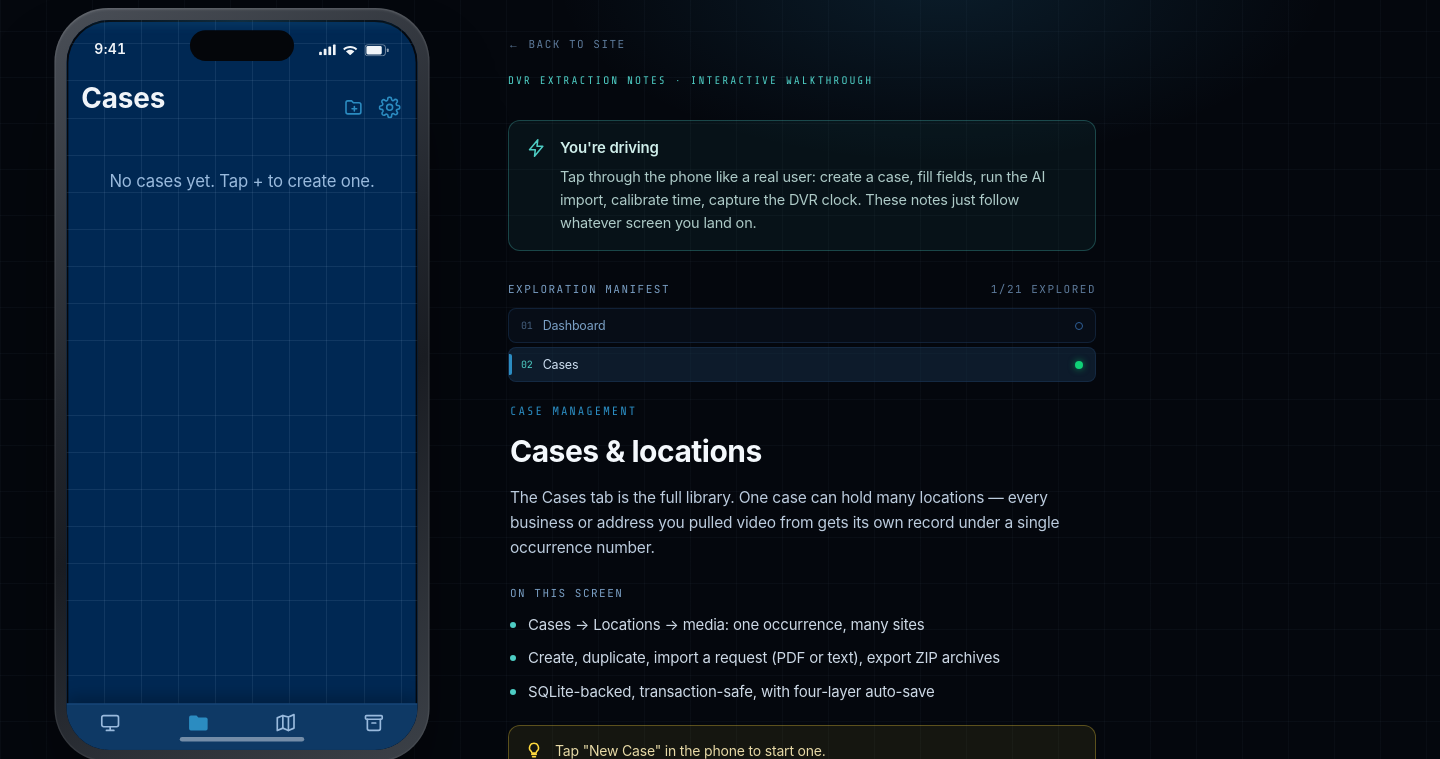
Test: Settings entry points (phone MainHeader gear on BOTH tab headers) › closes back to the tab it was opened from, clearing the modal id
Click the button with test id "header-settings-button".
click(390, 107)  # box [377,94,403,120]
(page scrolled)
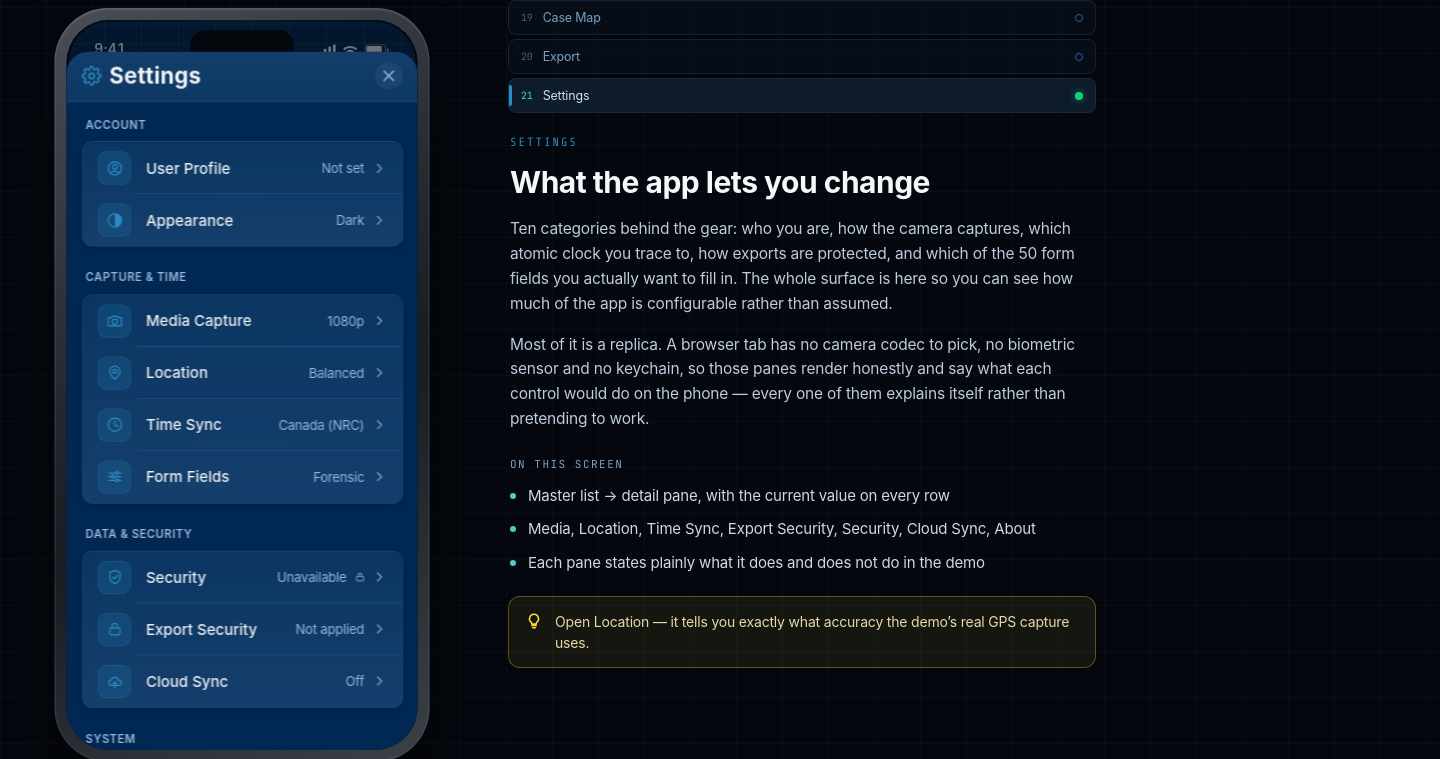
Click the button with test id "settings-close-button".
click(389, 76)  # box [375,62,403,90]
(page scrolled)
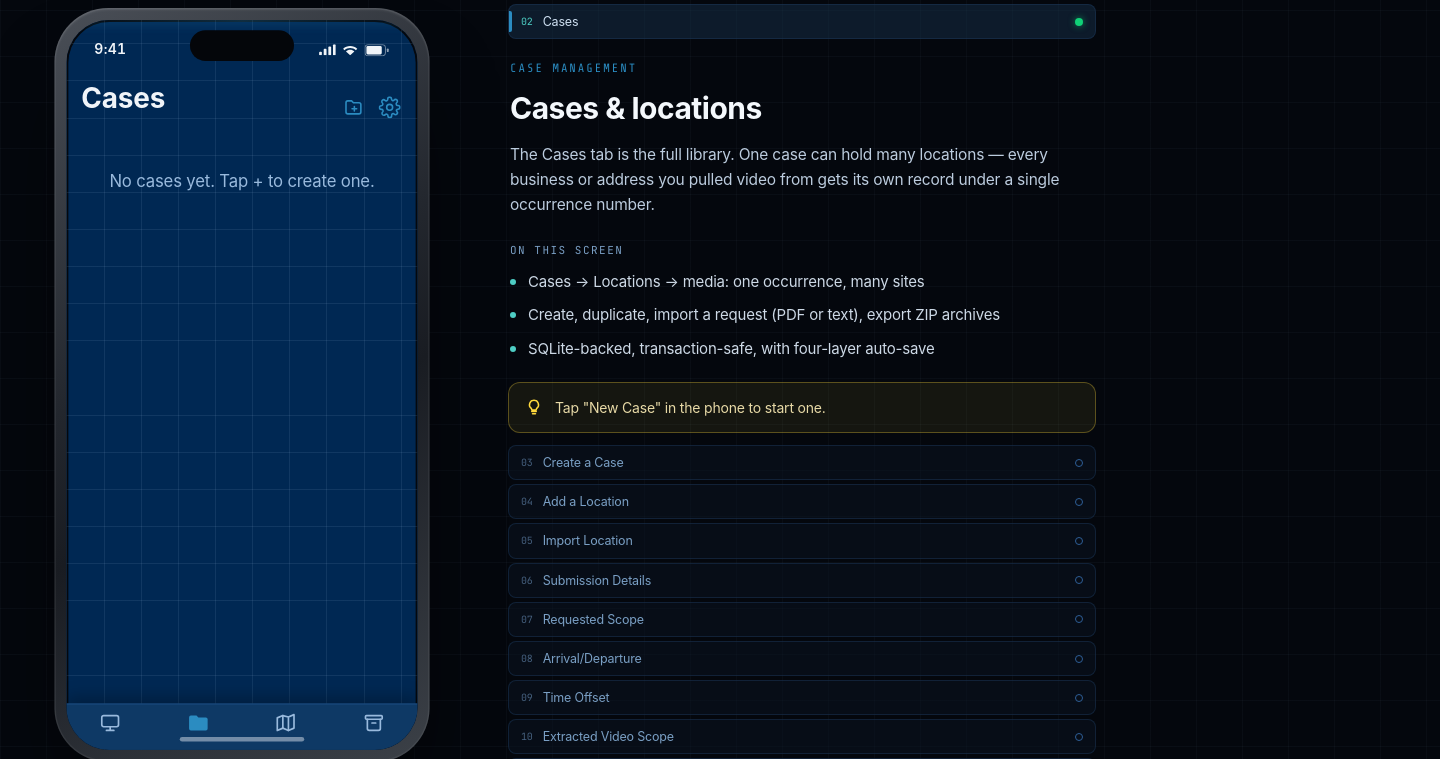
Now the button "Settings" is gone
